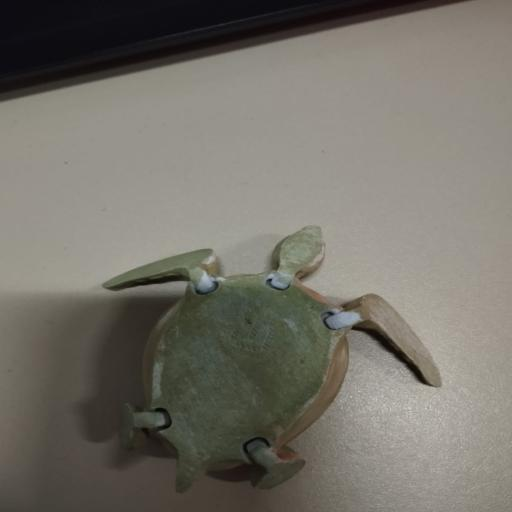Tugarin-modelo1: (104, 227, 440, 492)
